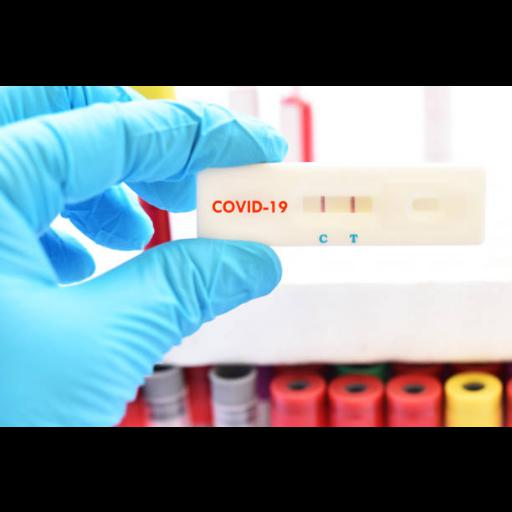Pos: (200, 163, 486, 243)
